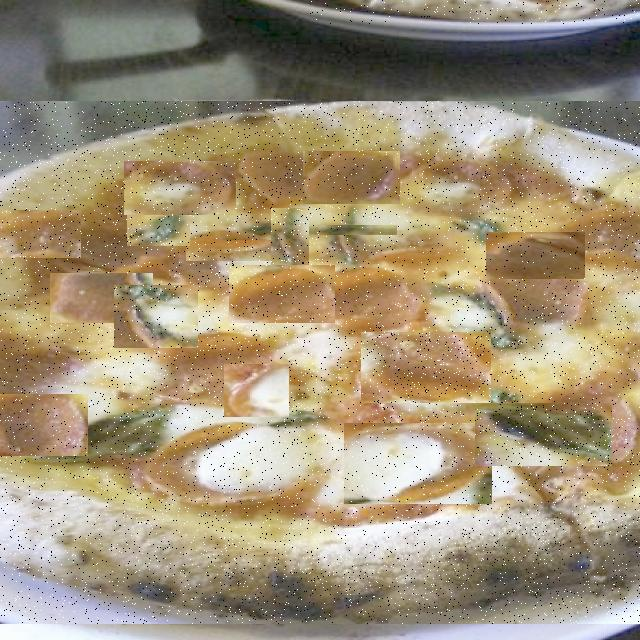Basil: (475, 403, 612, 466), (114, 286, 198, 350), (271, 208, 309, 265), (127, 215, 190, 248), (306, 406, 366, 431), (121, 388, 173, 405), (318, 225, 397, 235)
Pepperoni: (344, 423, 492, 504), (361, 332, 491, 403), (229, 265, 335, 323), (124, 161, 236, 215), (359, 234, 476, 284), (0, 394, 88, 456), (304, 151, 402, 204), (50, 273, 153, 323), (486, 232, 585, 279), (0, 210, 81, 258), (224, 364, 289, 417), (186, 240, 277, 261)
Pizza: (0, 102, 640, 624), (311, 0, 639, 24)
